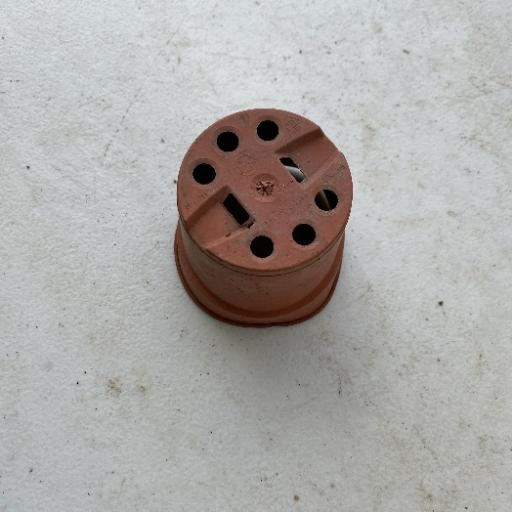Plastic: (171, 106, 355, 330)
